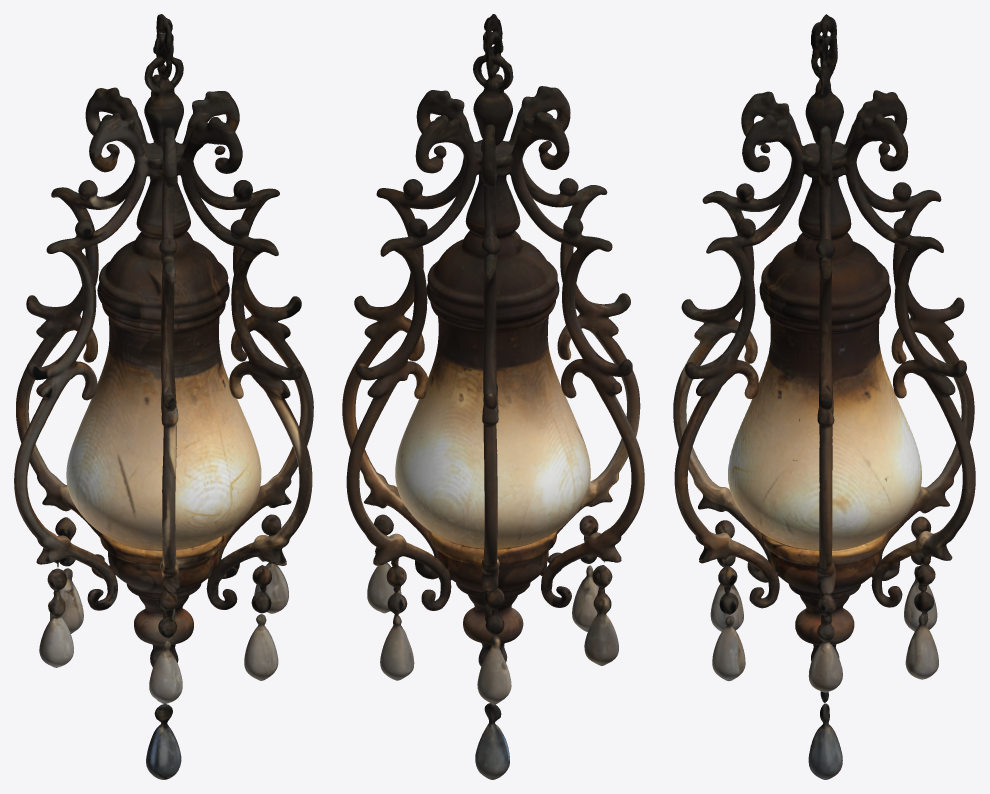
File: a_lamp_hanging_from_t_0613163226_texture.fbx
3 views of the same model, side by side, from view 1: azimuth 30°, elevation 25°; view 2: azimuth 150°, elevation 25°; view 3: azimuth 270°, elevation 25° (orthographic).
Visible parts, largest first — view 1: Mesh1_Mesh1.011; view 2: Mesh1_Mesh1.011; view 3: Mesh1_Mesh1.011.
Part boxes in pixels (x1,y1,x2,y2): Mesh1_Mesh1.011: (14,14,313,779); Mesh1_Mesh1.011: (342,14,644,779); Mesh1_Mesh1.011: (673,14,975,779).
Bounding box in the file's own units: 82.29 × 201 × 72.22.
Materials: 1 (1 with a texture image).
